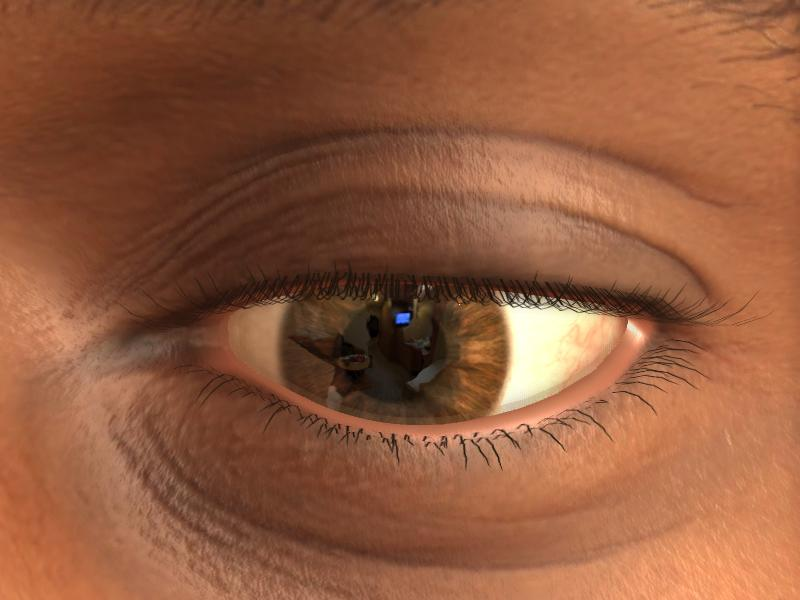eye: (278, 286, 498, 430)
